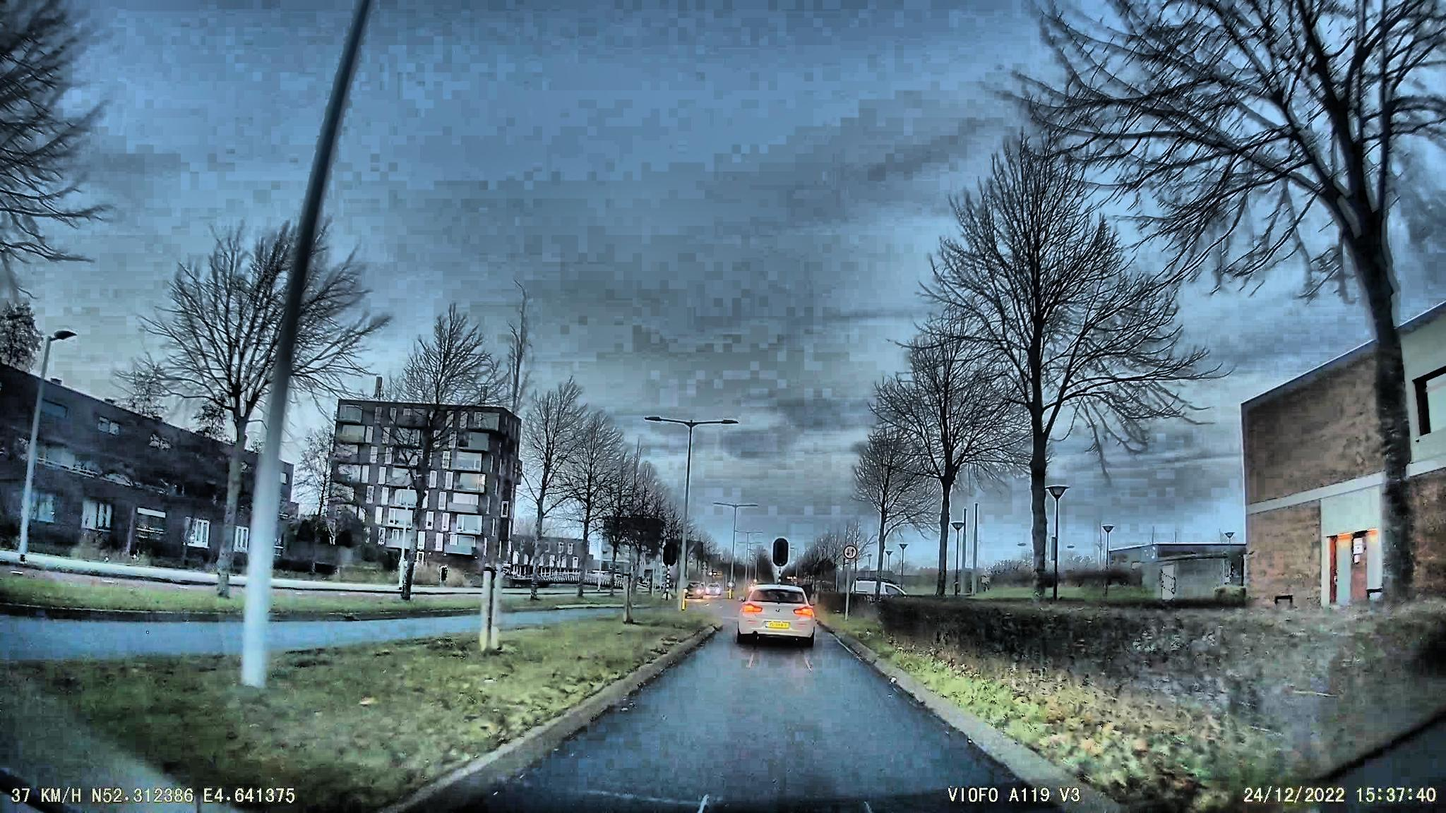Roads: (395, 630, 1122, 813)
